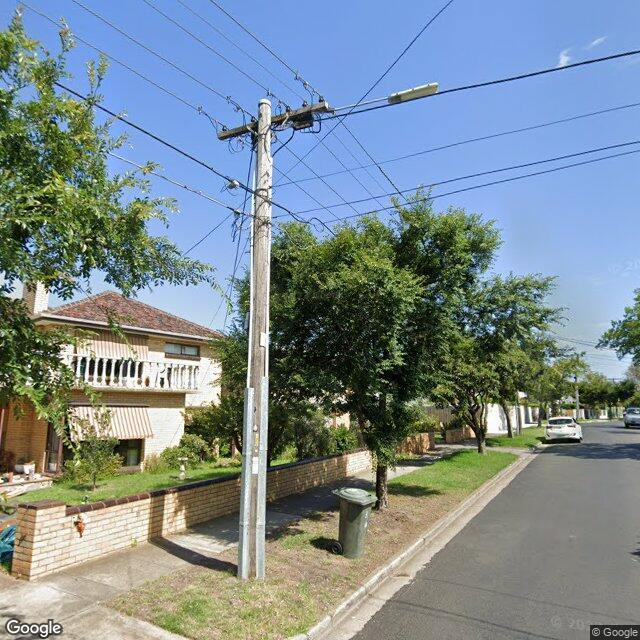crossarm: (217, 101, 329, 140)
streetlight: (325, 82, 438, 112)
timber-pole: (237, 100, 271, 580)
